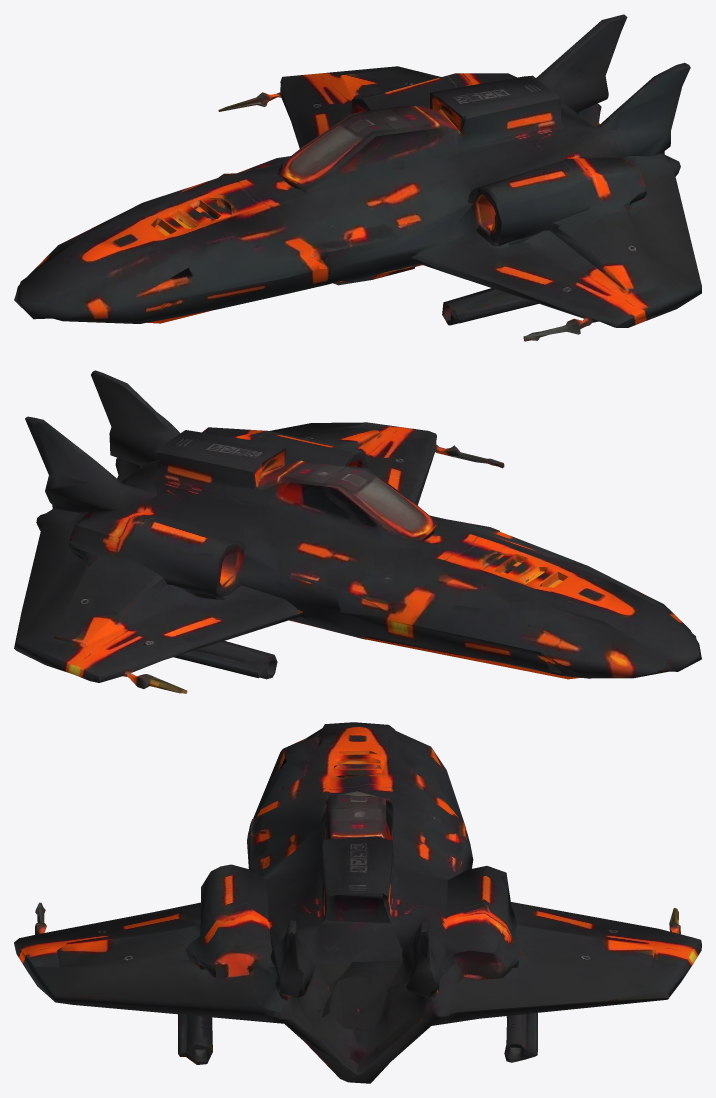
Rendered from papa.glb.
The picture shows the model from 3 angles, top to bottom: view 1: azimuth 30°, elevation 25°; view 2: azimuth 150°, elevation 25°; view 3: azimuth 270°, elevation 25°; orthographic projection. The views are drawn at different scales.
Visible parts, largest first — view 1: Mesh0; view 2: Mesh0; view 3: Mesh0.
Boxes of the visible parts, x1,y1,x2,y2 form: Mesh0: (14, 14, 701, 341); Mesh0: (14, 370, 701, 693); Mesh0: (14, 722, 701, 1083).
Size of the model in its own units: 1.9 by 0.4703 by 1.74.
1 material, 1 textured.
